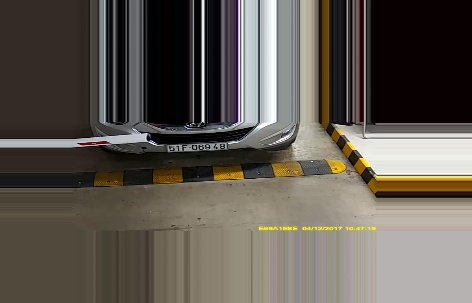plate: (165, 142, 229, 152)
